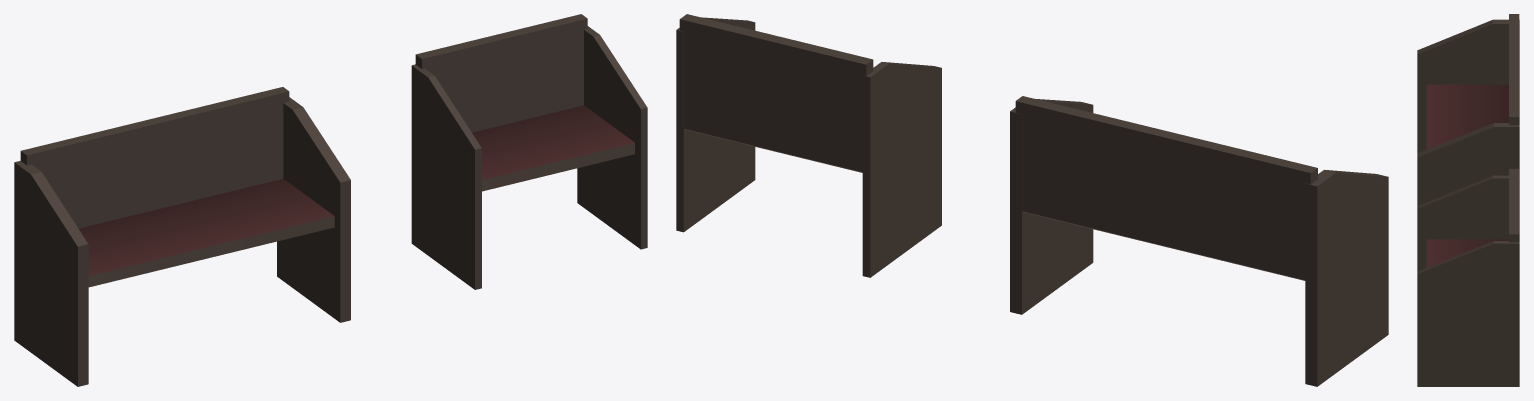
Rendered from Benches_Church.fbx.
The picture shows the model from 3 angles, left to right: view 1: azimuth 30°, elevation 25°; view 2: azimuth 150°, elevation 25°; view 3: azimuth 270°, elevation 25°; orthographic projection. The views are drawn at different scales.
Visible parts, largest first — view 1: Bench 1, Bench 2; view 2: Bench 1, Bench 2; view 3: Bench 2, Bench 1.
Boxes of the visible parts, bbox=[...] form: Bench 1: bbox=[14, 87, 350, 386]; Bench 2: bbox=[411, 14, 647, 289]; Bench 1: bbox=[1010, 96, 1388, 386]; Bench 2: bbox=[676, 14, 941, 277]; Bench 2: bbox=[1417, 169, 1519, 386]; Bench 1: bbox=[1417, 14, 1519, 206].
Bounding box in the file's own units: 1149 × 363 × 222.
Materials: 1 (1 with a texture image).
